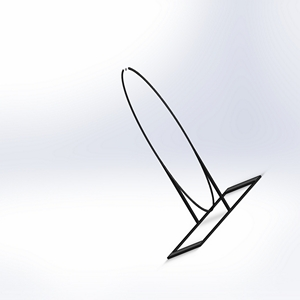circle: (118, 66, 265, 260)
